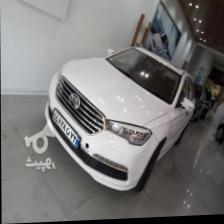plate: (52, 104, 81, 154)
